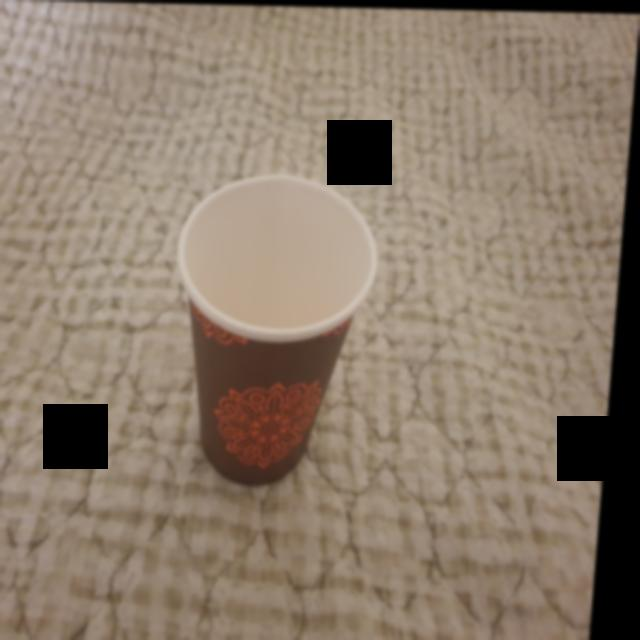cups: (162, 164, 397, 495)
